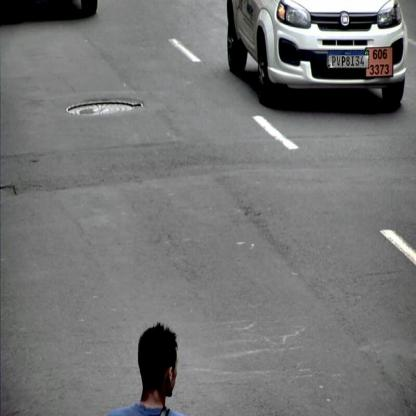PlacaM: (328, 50, 369, 69)
